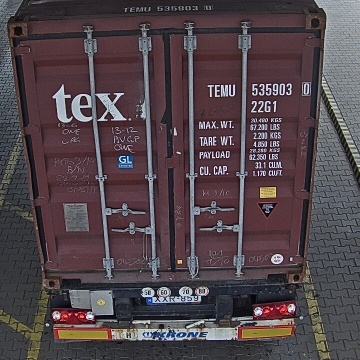serial_id: (207, 82, 310, 96)
